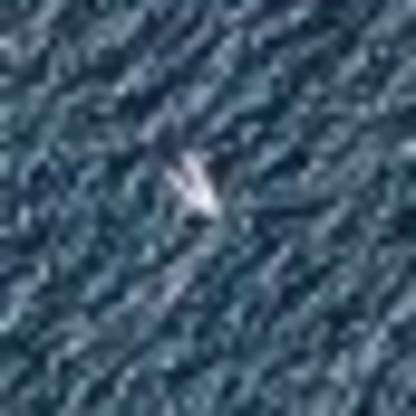ship: (154, 143, 228, 221)
